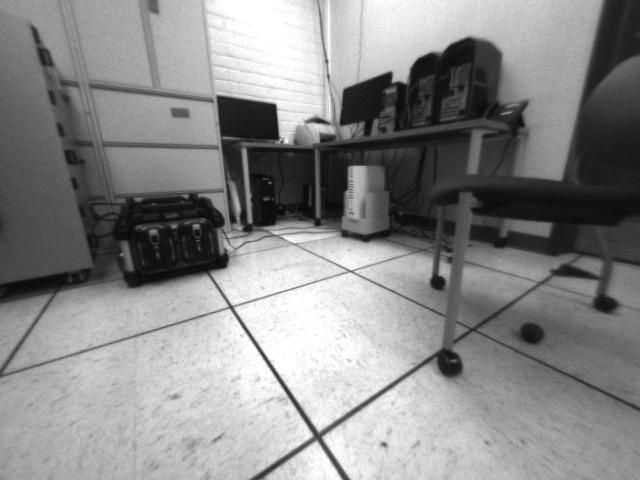dogtoy: (513, 315, 549, 350)
